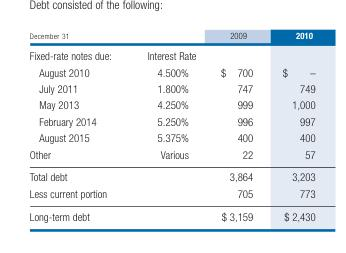table: (28, 29, 314, 221)
table column: (28, 29, 128, 221), (128, 29, 207, 221), (207, 29, 267, 221), (267, 29, 314, 221)
table column header: (28, 29, 314, 63)
table row: (28, 29, 314, 63), (28, 145, 314, 165), (28, 184, 314, 204), (28, 165, 314, 184), (28, 79, 314, 96), (28, 112, 314, 129), (28, 204, 314, 221), (28, 63, 314, 79), (28, 96, 314, 112), (28, 129, 314, 145)
